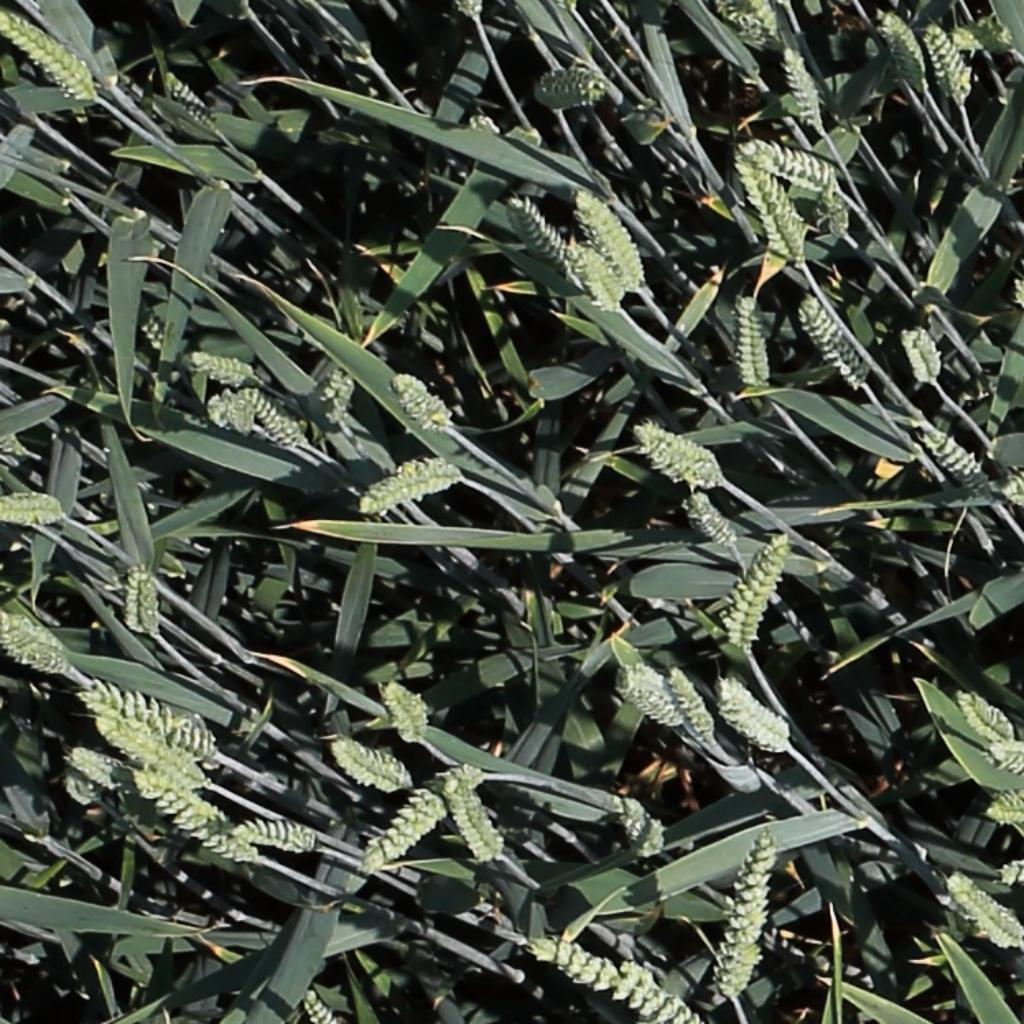0-0: (363, 758, 492, 873), (529, 936, 696, 1024), (136, 775, 258, 866), (74, 678, 215, 752), (0, 8, 98, 103), (720, 830, 776, 996), (727, 527, 795, 655), (355, 448, 463, 524), (573, 182, 649, 289), (731, 150, 798, 268), (800, 290, 873, 393), (98, 719, 203, 787), (920, 421, 993, 498), (611, 656, 685, 730), (946, 873, 1021, 946), (507, 191, 576, 270), (445, 776, 502, 869), (136, 774, 226, 832), (745, 141, 843, 193), (664, 662, 722, 745), (780, 39, 830, 135), (569, 237, 628, 318), (880, 6, 933, 95), (717, 673, 790, 736), (241, 385, 309, 451), (924, 19, 973, 105), (640, 425, 722, 476), (224, 806, 318, 850), (390, 370, 454, 434), (613, 790, 666, 864), (685, 487, 744, 552), (380, 677, 432, 750), (333, 742, 409, 791), (0, 619, 69, 671), (955, 689, 1015, 746), (738, 288, 771, 391), (527, 69, 615, 105), (722, 931, 765, 1004), (158, 69, 217, 122), (972, 779, 1024, 836), (902, 320, 944, 389), (129, 557, 159, 643), (716, 1, 771, 47), (0, 487, 69, 522), (820, 177, 856, 243), (208, 393, 259, 438), (733, 0, 782, 46), (324, 363, 357, 431), (136, 299, 179, 351), (188, 350, 259, 380), (68, 749, 118, 790), (297, 981, 337, 1024), (748, 0, 786, 40), (993, 844, 1024, 890), (986, 738, 1024, 773), (1004, 464, 1024, 512), (457, 0, 488, 28)
